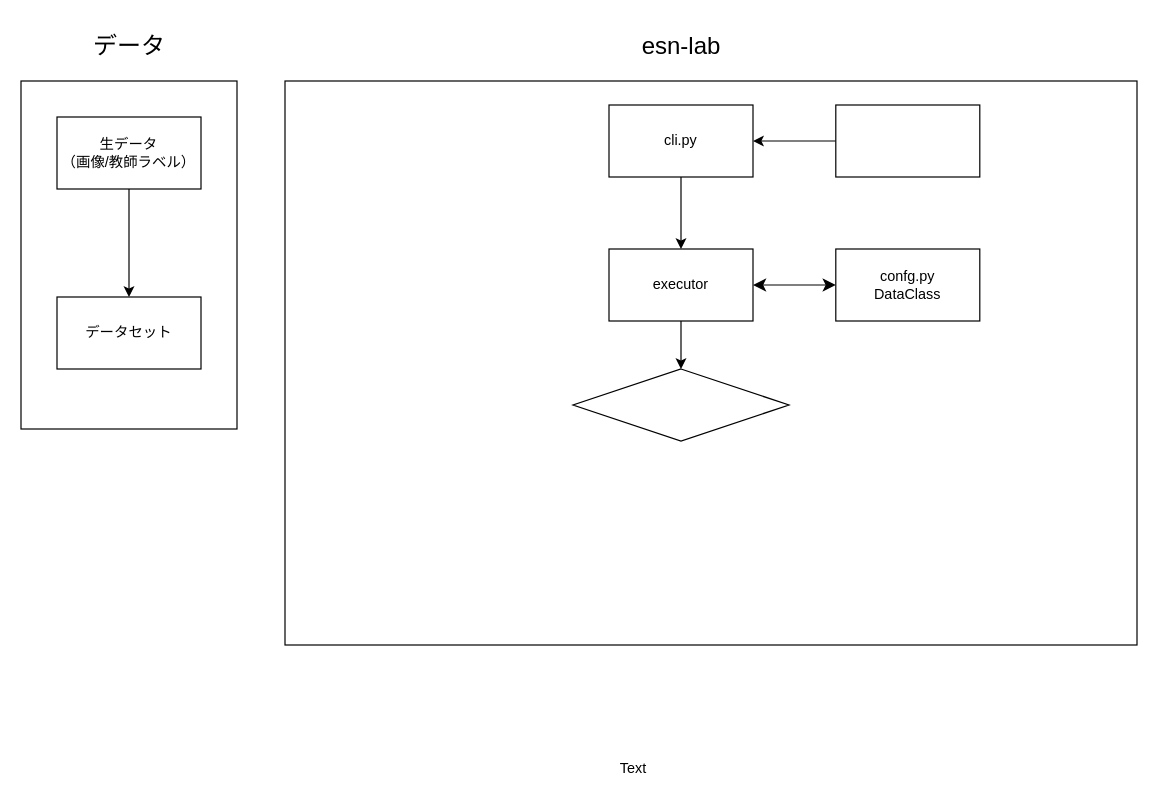
Image size: 1158x806. Some labels were removed from this diagram. Here are the shapes that lost their labels. From the top down, the centre of each, then its label:
At [907,140]: "config.yaml".
At [680,404]: "Registry (train, eval, integ)".
